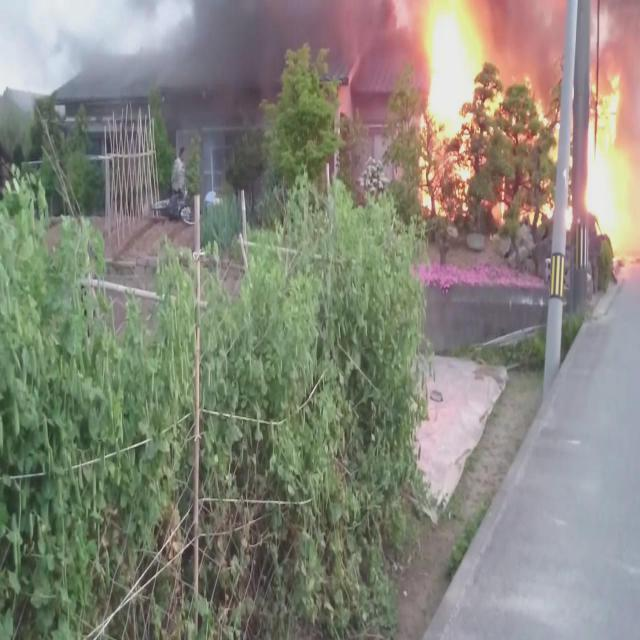Fire: (414, 2, 500, 218), (588, 75, 638, 262)
